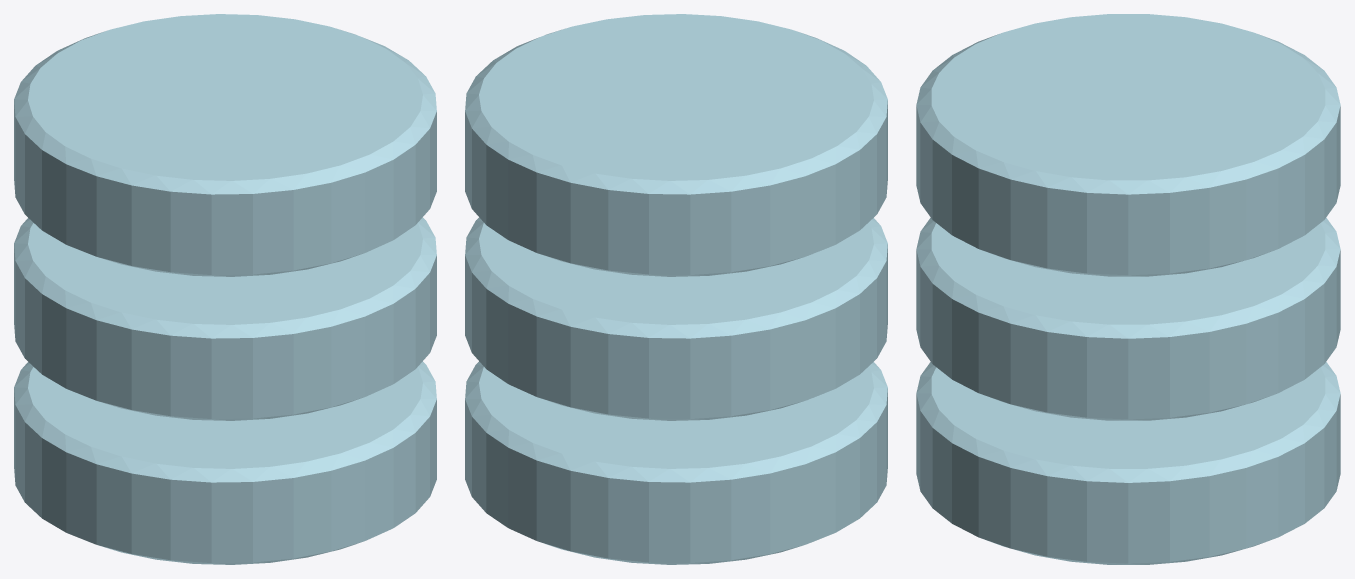
3 views of the same model, side by side, from view 1: azimuth 30°, elevation 25°; view 2: azimuth 150°, elevation 25°; view 3: azimuth 270°, elevation 25° (orthographic).
Visible parts, largest first — view 1: D3, D1, D2; view 2: D3, D1, D2; view 3: D3, D1, D2.
Part boxes in pixels (x1,y1,x2,y2): D3: (14,14,436,276); D1: (14,361,436,564); D2: (14,217,436,420); D3: (465,14,887,276); D1: (465,361,887,564); D2: (465,217,887,420); D3: (916,14,1340,276); D1: (916,362,1340,564); D2: (916,217,1340,420).
Bounding box in the file's own units: 2 × 2 × 2.
